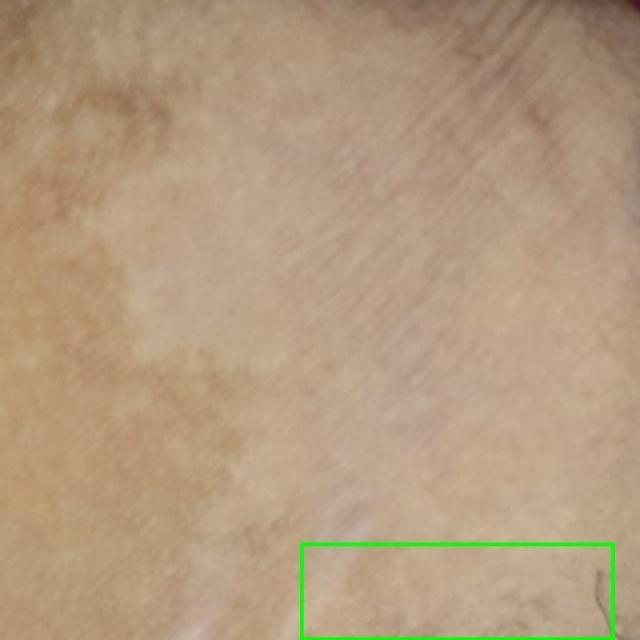Contact Dermatitis: (301, 544, 612, 639)
